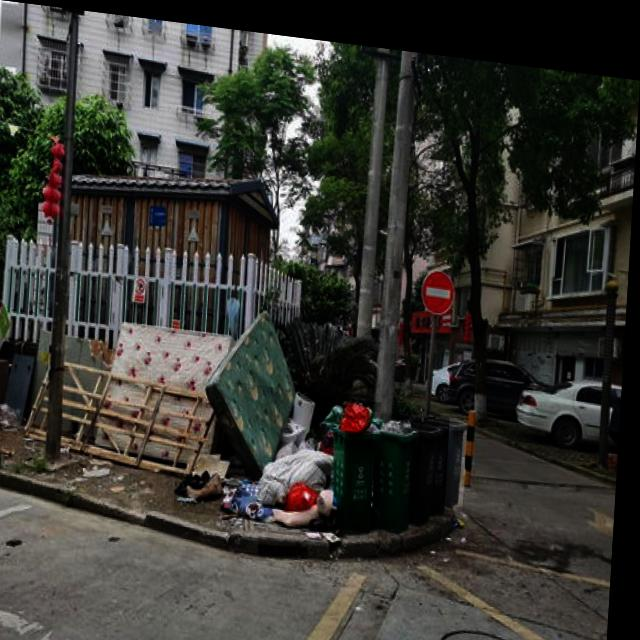garbage: (180, 370, 351, 521)
garbage_bin: (413, 407, 454, 514)
overflow: (320, 386, 386, 523), (374, 401, 419, 519), (450, 405, 472, 494)
